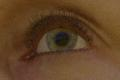eye: (46, 28, 77, 51)
